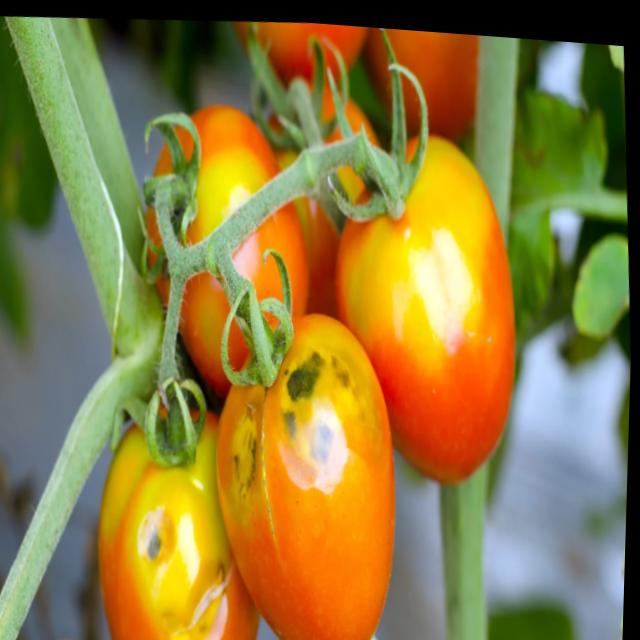damaged: (209, 307, 414, 640), (84, 387, 272, 640)
overripe: (323, 111, 535, 507), (134, 84, 319, 369)
